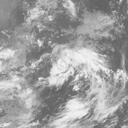cyclone: (59, 44, 101, 80)
